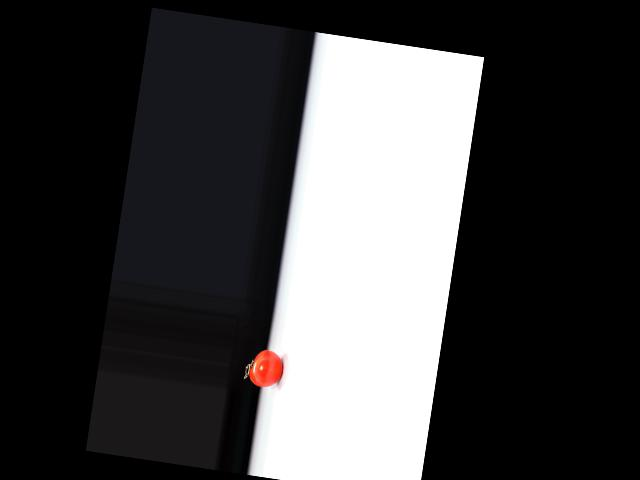tomato: (247, 347, 285, 389)
